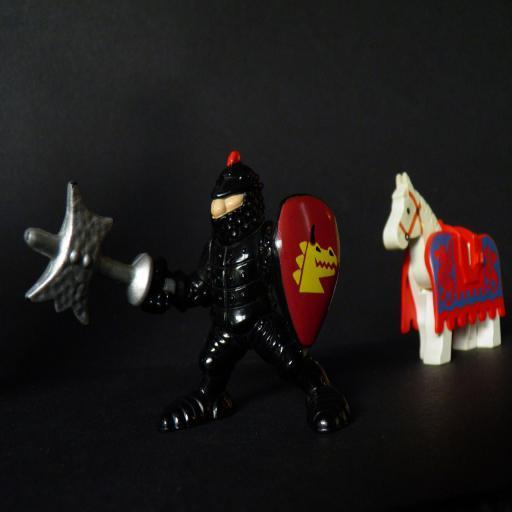horse: (382, 171, 502, 366)
